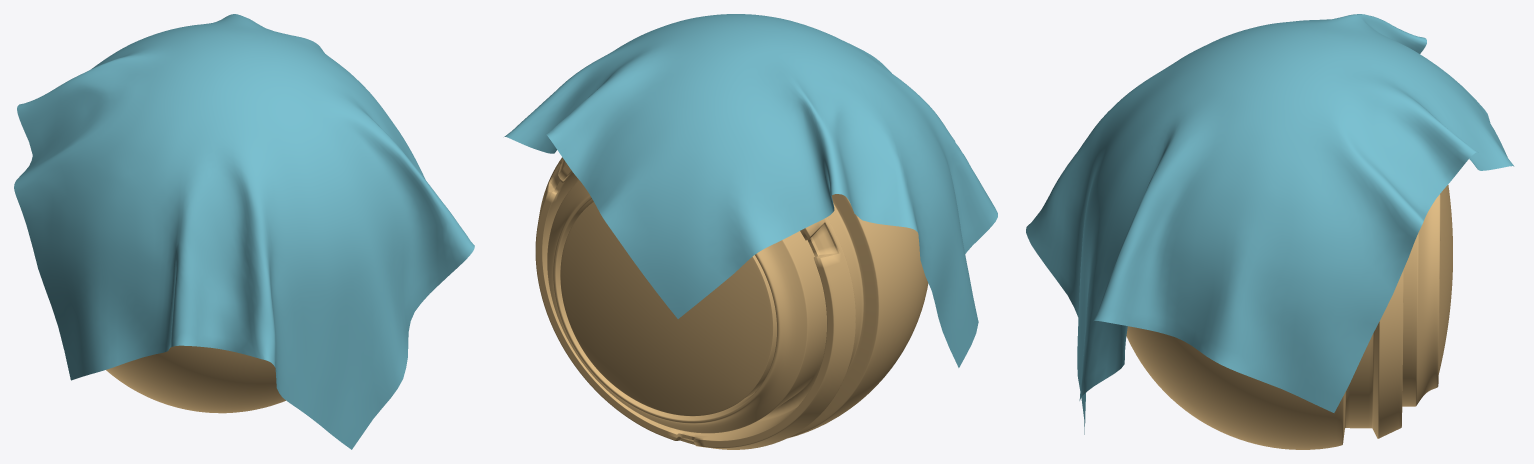
Rendered from 3DTest.glb.
3 renders of one model, left to right at view 1: azimuth 30°, elevation 25°; view 2: azimuth 150°, elevation 25°; view 3: azimuth 270°, elevation 25°, orthographic. The views are drawn at different scales.
Parts seen in each view (by area): view 1: FabricModel; view 2: FabricModel; view 3: FabricModel.
Part boxes in pixels (x1,y1,x2,y2): FabricModel: (14, 14, 474, 449); FabricModel: (504, 14, 997, 449); FabricModel: (1026, 14, 1514, 449).
Bounding box in the file's own units: 2.43 × 2.2 × 2.53.
